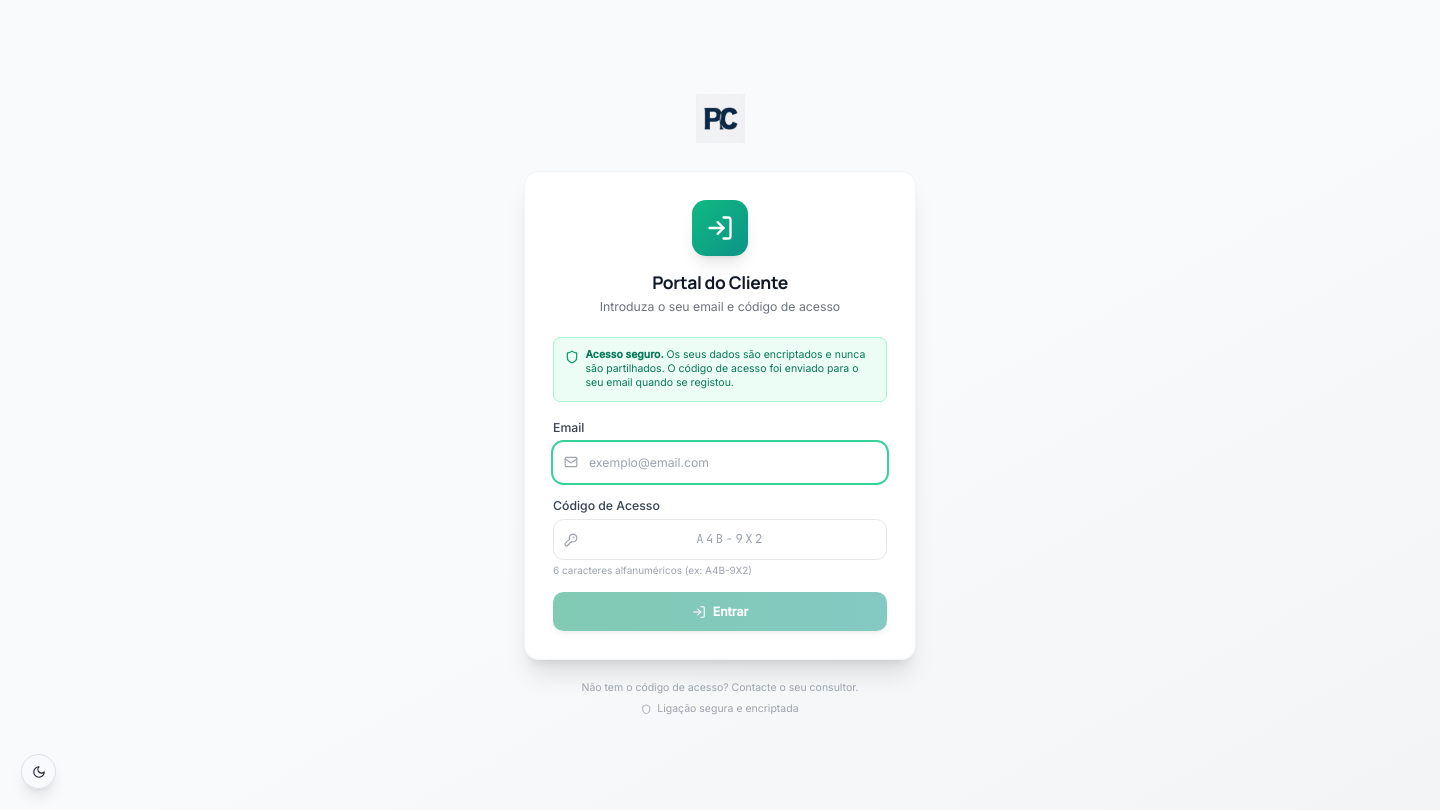
Test: Portal do Cliente — vista noturna › clicar liga a vista noturna no <html>, guarda-a e o botão muda de sentido
The width and height of the screenshot is (1440, 810).
Later steps or results of the test are not shown.
Click the button named "Ativar vista noturna" at coordinates (38, 772), box [21, 754, 56, 789]
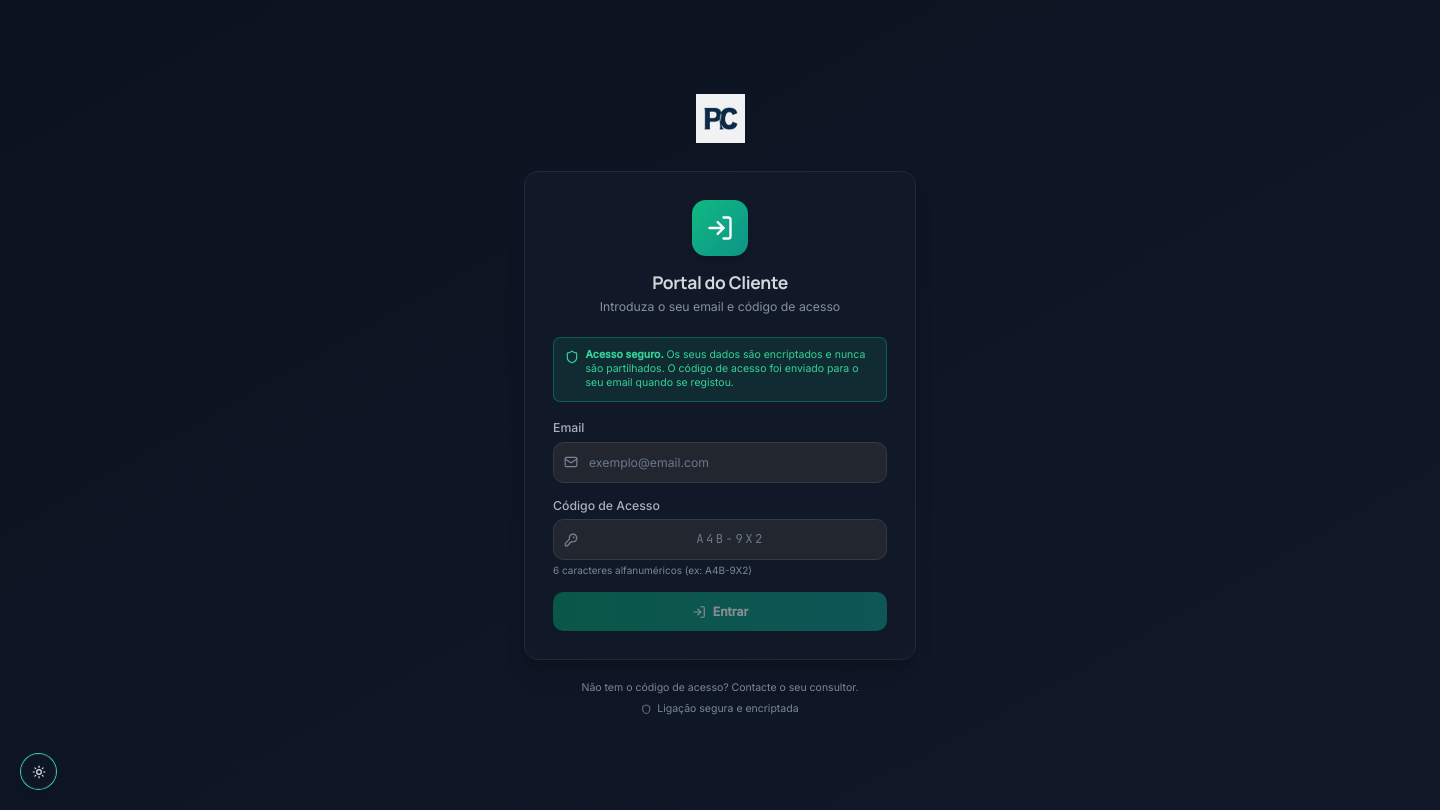
Expected: the button named "Desativar vista noturna" is shown, [21, 754, 56, 789]
